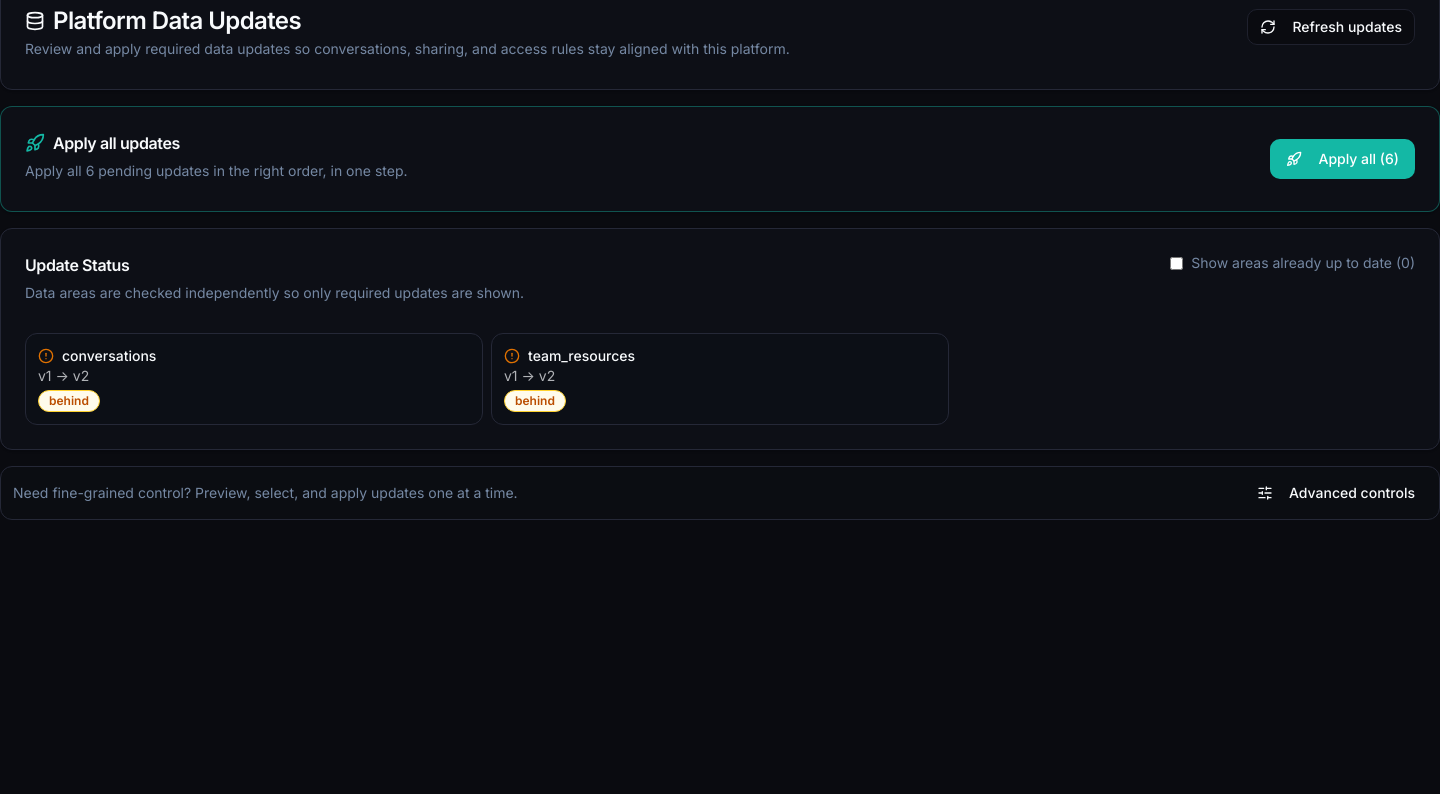
it: MigrationTab › loads release migrations and previews a dry run
Click the button "Advanced controls" at (1336, 493), box [1245,475,1427,511]
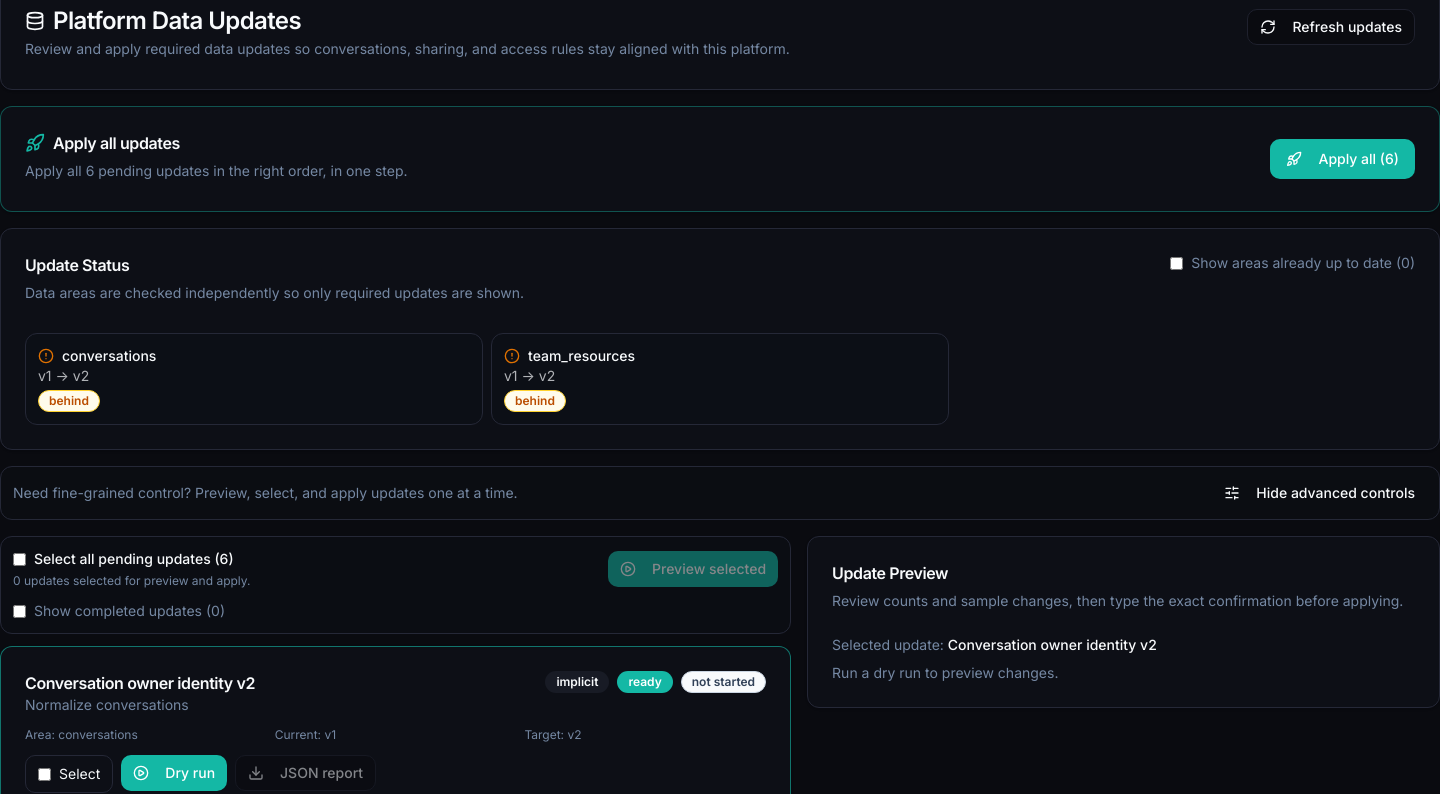
Check: the heading "Platform Data Updates" is shown, box [25,6,301,35]
Check: the text "Conversation owner identity v2" in the row of "implicit" is shown, box [25,673,255,693]
Click the button "Dry run" at (174, 773), box [121,755,227,791]
(page scrolled)
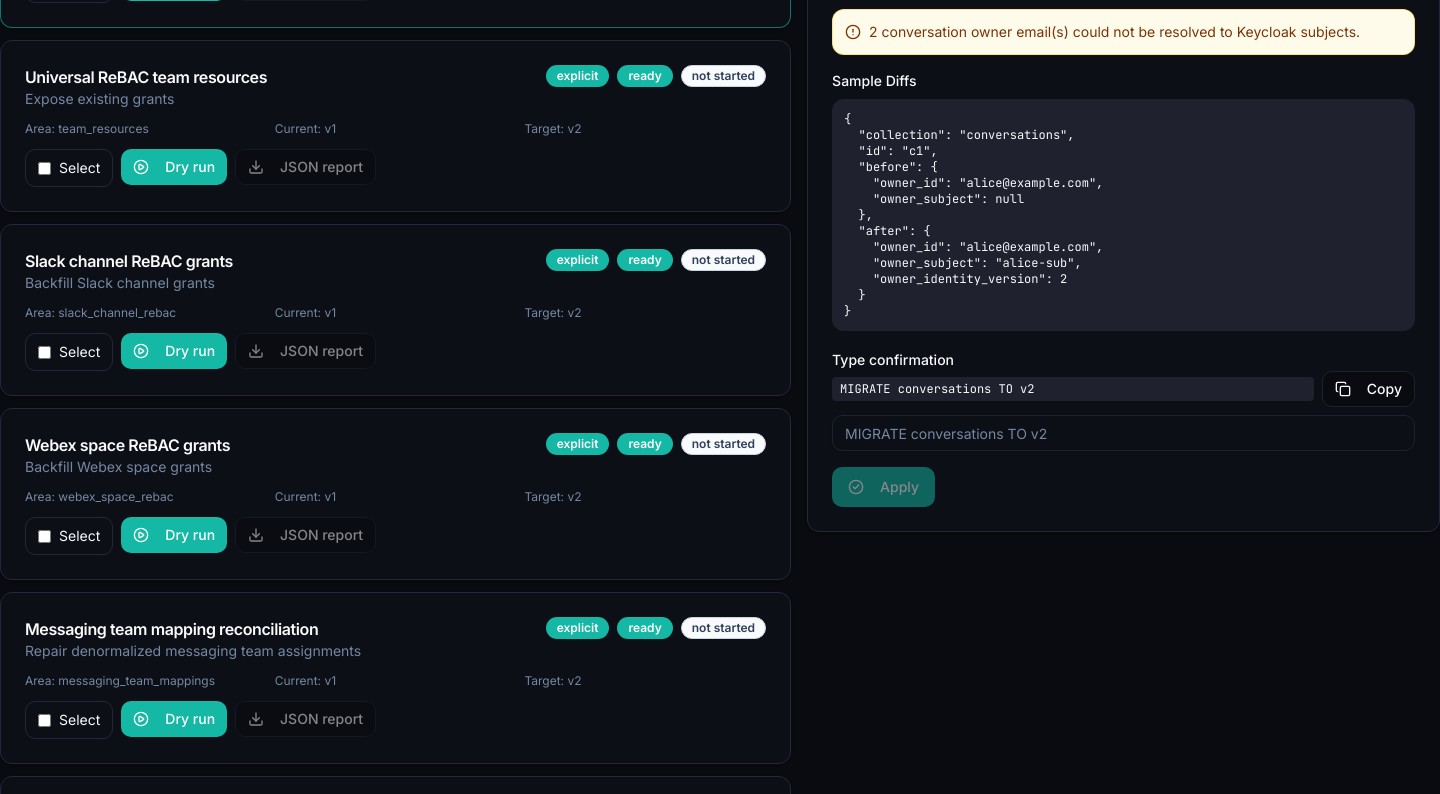
Check: the text "MIGRATE conversations TO v2" is shown, box [832,377,1314,401]
